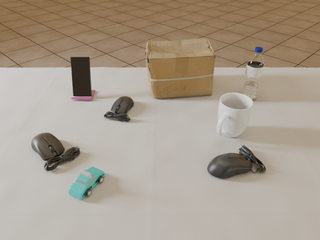bottle: (241, 47, 265, 100)
box: (145, 38, 215, 98)
cup: (217, 93, 253, 137)
mouse: (207, 145, 266, 178), (31, 133, 80, 171), (104, 96, 134, 121)
phone: (71, 57, 92, 96)
toy_car: (69, 167, 105, 200)
